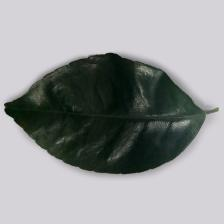healthy: (6, 53, 204, 175)
